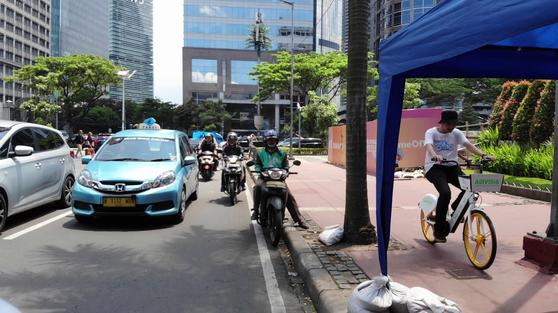bike: (413, 156, 505, 285)
